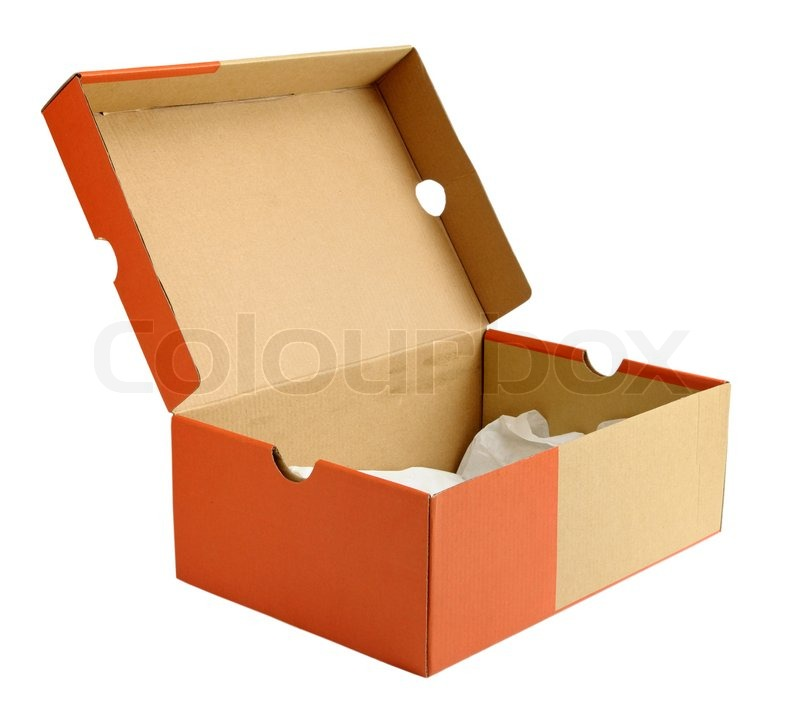Rec_Paper: (29, 29, 734, 691)
